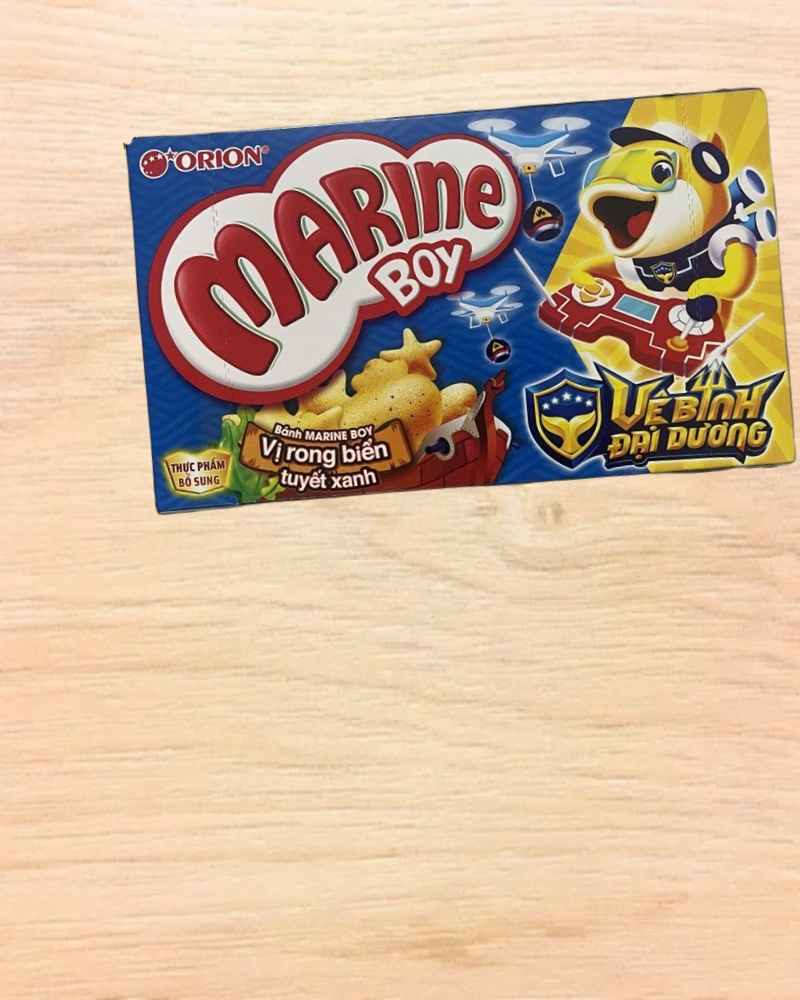Marine: (126, 83, 800, 520)
